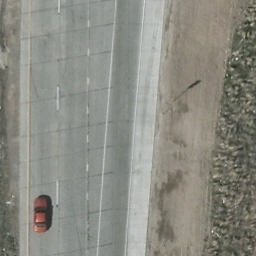car: (34, 196, 51, 234)
